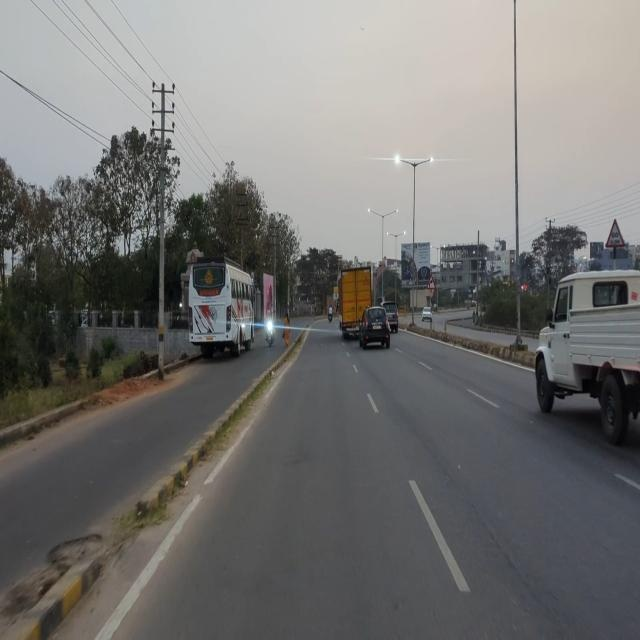bien_nguy_hiem: (604, 215, 626, 250), (426, 274, 437, 290)
